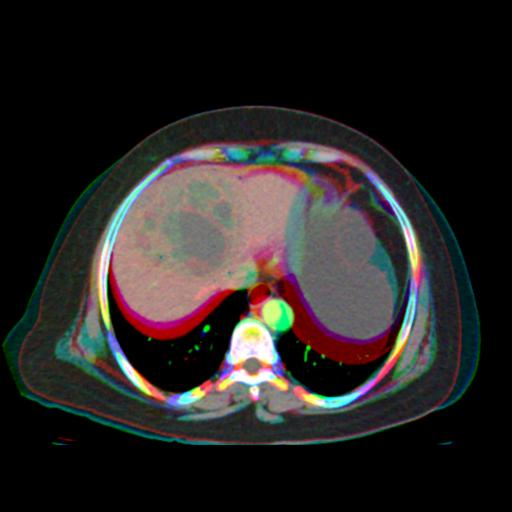Abscess: (140, 175, 236, 277)
